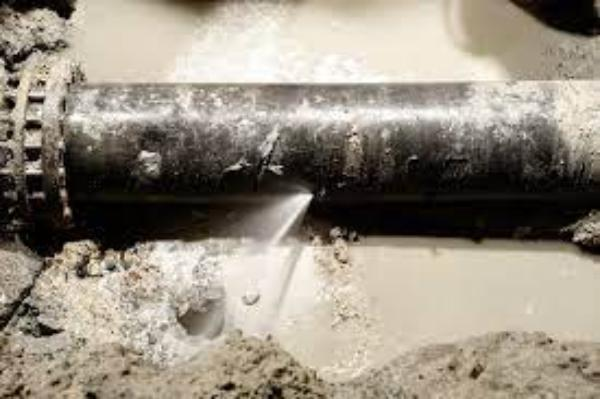pipe burst: (216, 184, 324, 276)
water accumulation: (71, 0, 600, 384)
